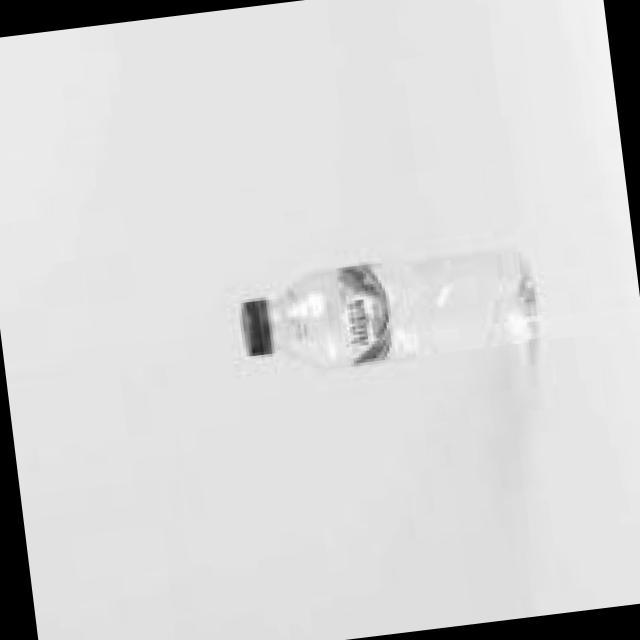good: (216, 194, 558, 400)
